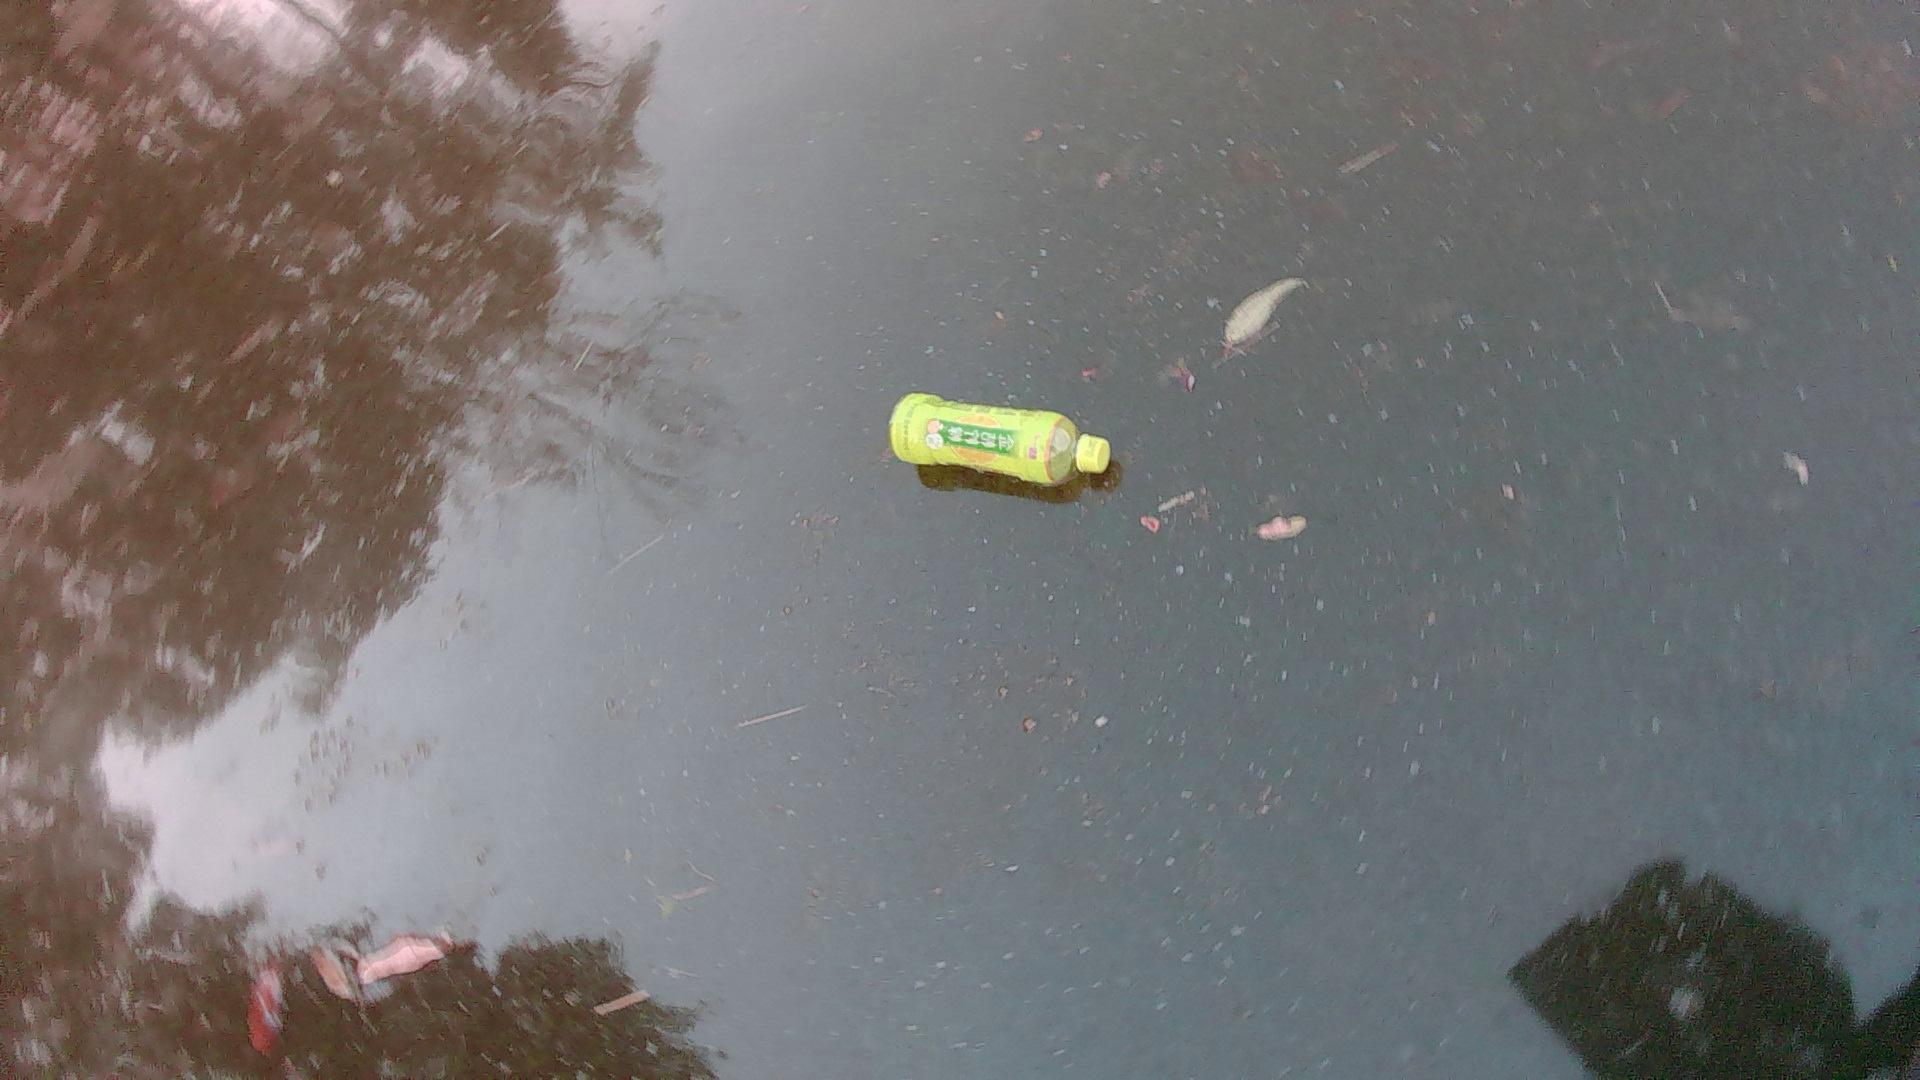Plastic: (880, 386, 1122, 493)
